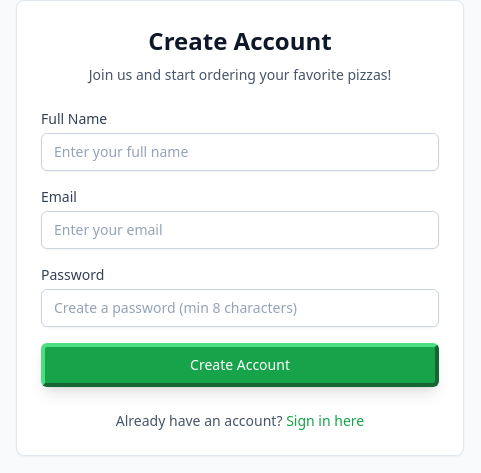
RegisterPage › should show loading state during submission
The width and height of the screenshot is (481, 473).
Type "John Doe" into the field labelled "Full Name" at x=240, y=152, box [41, 133, 439, 171]
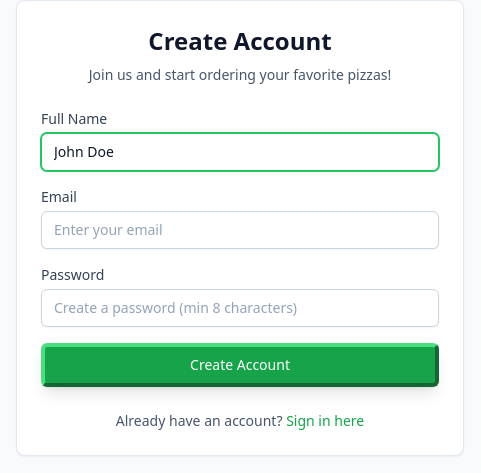
Type "john@example.com" into the field labelled "Email" at x=240, y=230, box [41, 211, 439, 249]
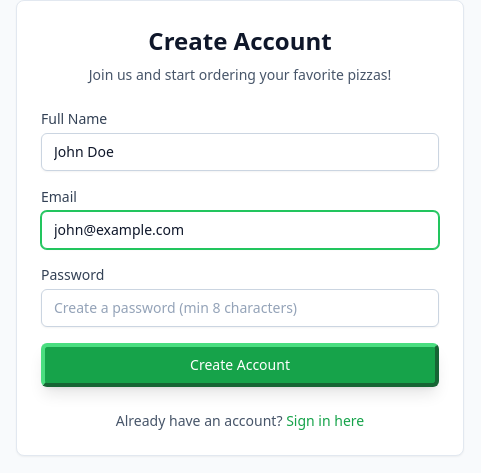
Type "password123" into the password field labelled "Password" at x=240, y=308, box [41, 289, 439, 327]
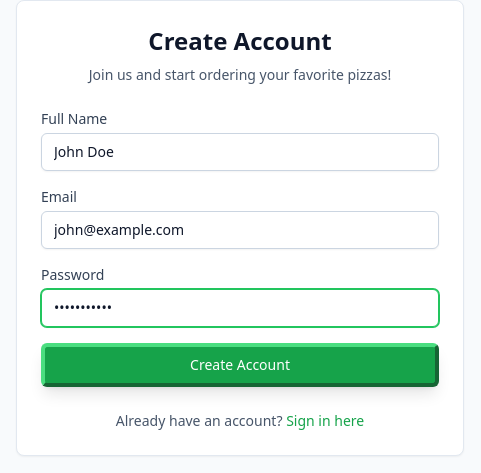
Click the button "Create Account" at x=240, y=365, box [41, 343, 439, 387]
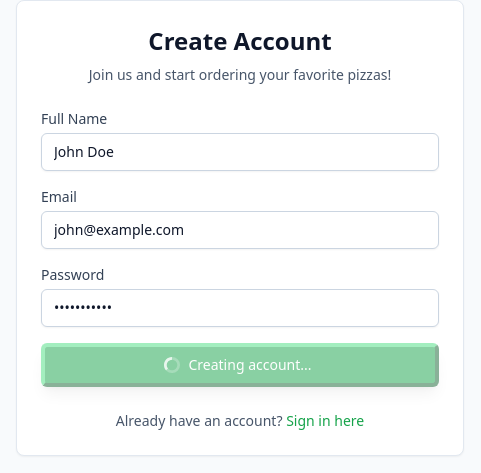
Check: the button "Creating account..." is disabled, box [41, 343, 439, 387]
